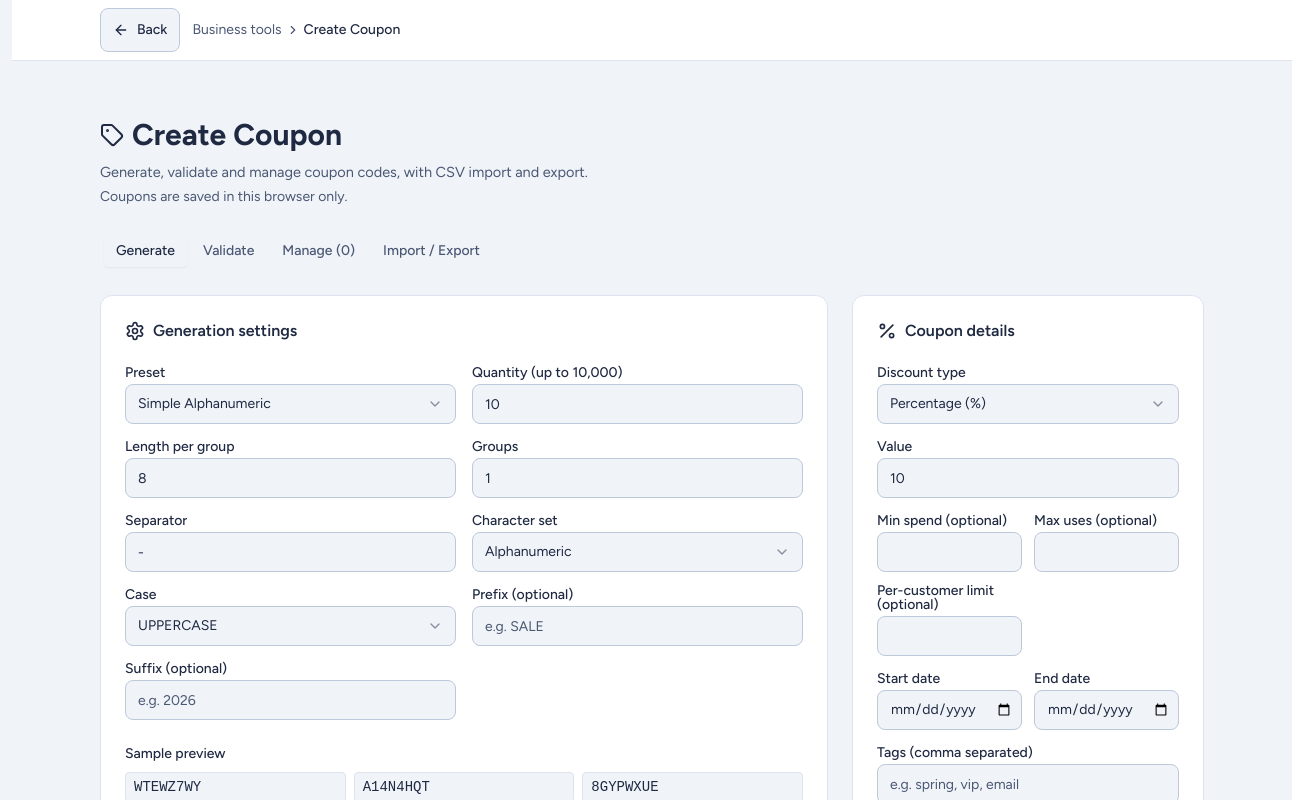
Test case: Business Tools back navigation › opening a tool by URL (no app history): Back goes to /business-tools, not out of the site
Click the button with aria-label "Go back" at [140, 30], box left=100, top=8, right=180, bottom=52
(page scrolled)
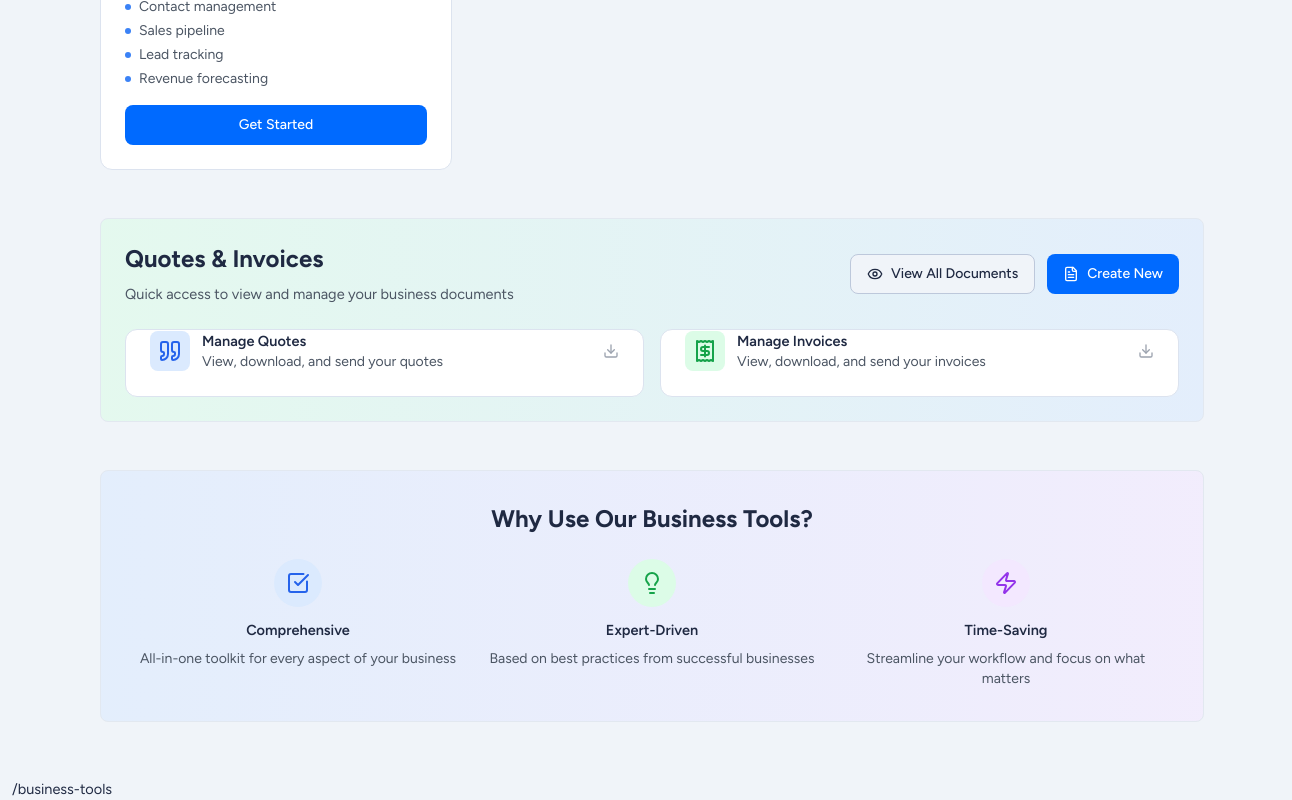
Result: the text with test id "where" reads "/business-tools" at left=12, top=780, right=112, bottom=798
